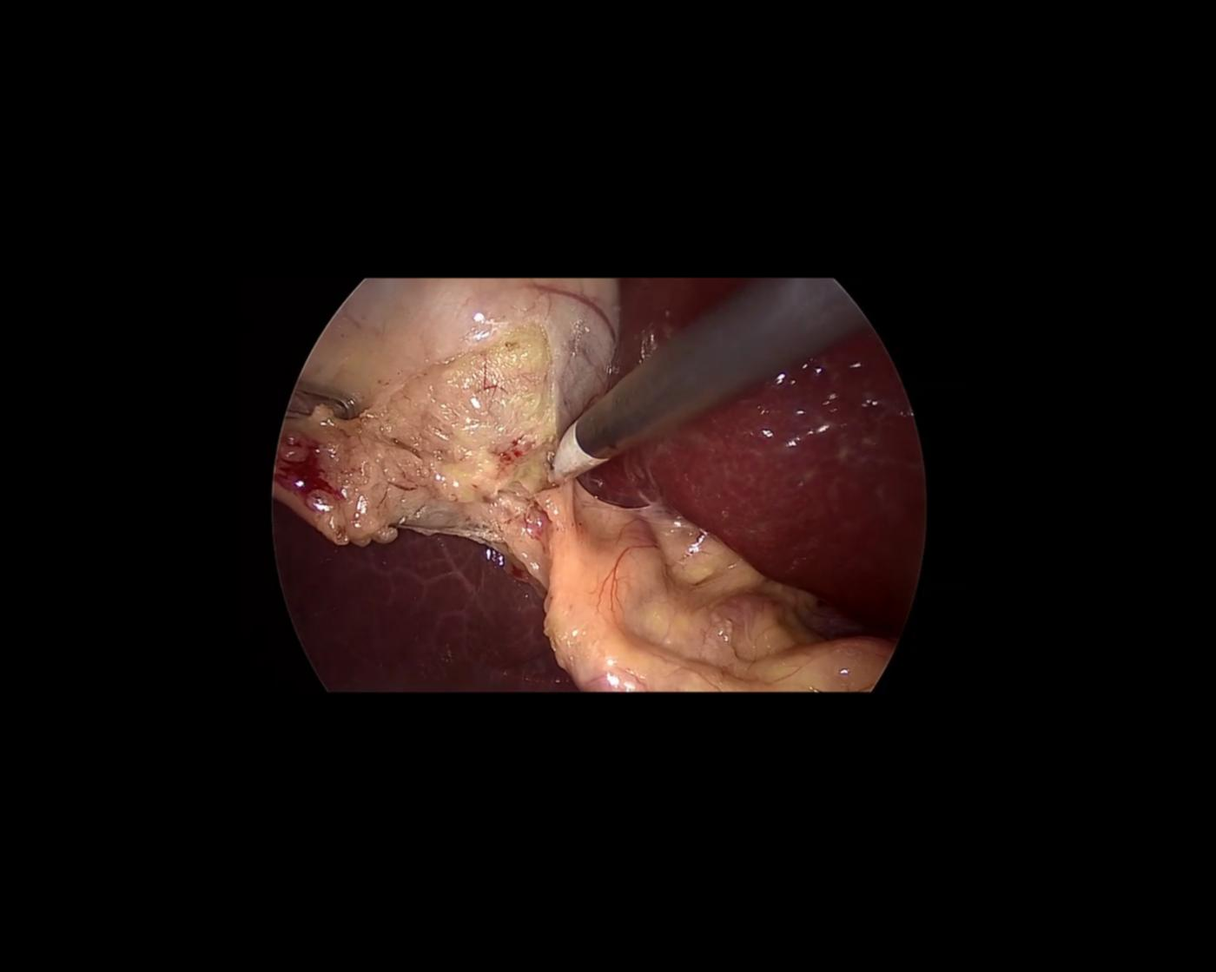Cautery: (507, 238, 870, 500)
Forceps: (286, 381, 360, 434)
Gallbladder: (273, 279, 619, 548)
Liver: (531, 233, 1006, 641), (275, 499, 579, 695)
